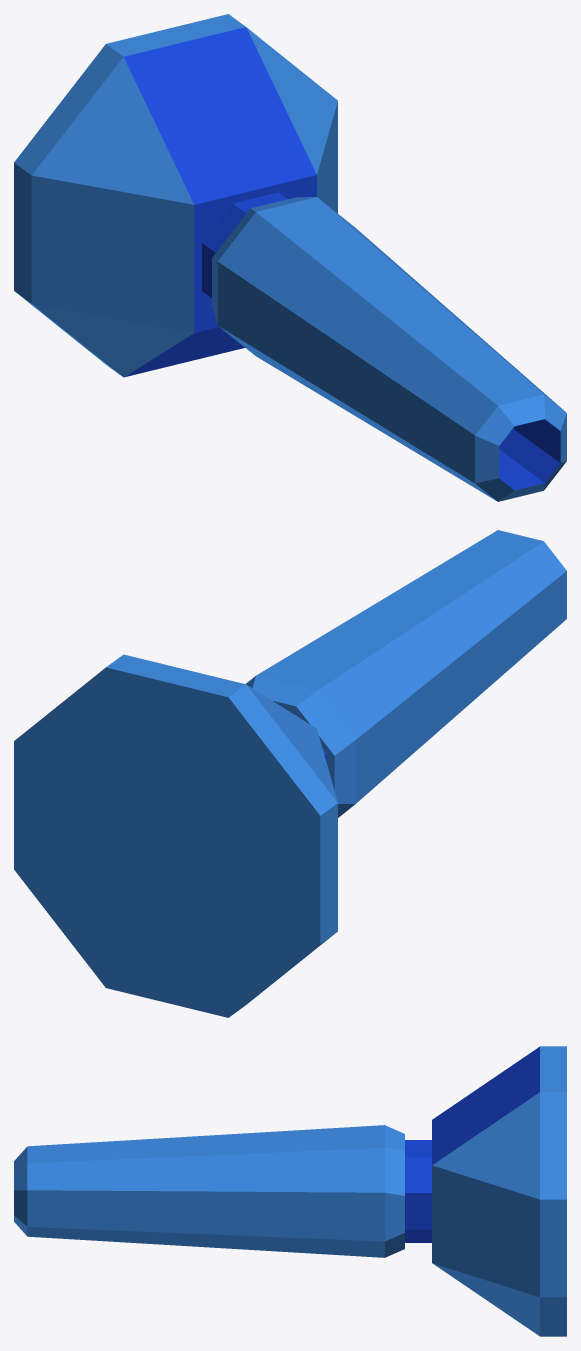
The model's file is hand.FBX.
3 renders of one model, top to bottom at view 1: azimuth 30°, elevation 25°; view 2: azimuth 150°, elevation 25°; view 3: azimuth 270°, elevation 25°, orthographic. The views are drawn at different scales.
Parts seen in each view (by area): view 1: VIFS001, VIFS002; view 2: VIFS001; view 3: VIFS001, VIFS002.
Boxes of the visible parts, box(x1,y1,x2,y2) form: VIFS001: box(14, 14, 566, 501); VIFS002: box(124, 27, 560, 490); VIFS001: box(14, 530, 566, 1017); VIFS001: box(14, 1046, 566, 1336); VIFS002: box(405, 1046, 539, 1242).
Bounding box in the file's own units: 0.4878 × 0.4878 × 1.
